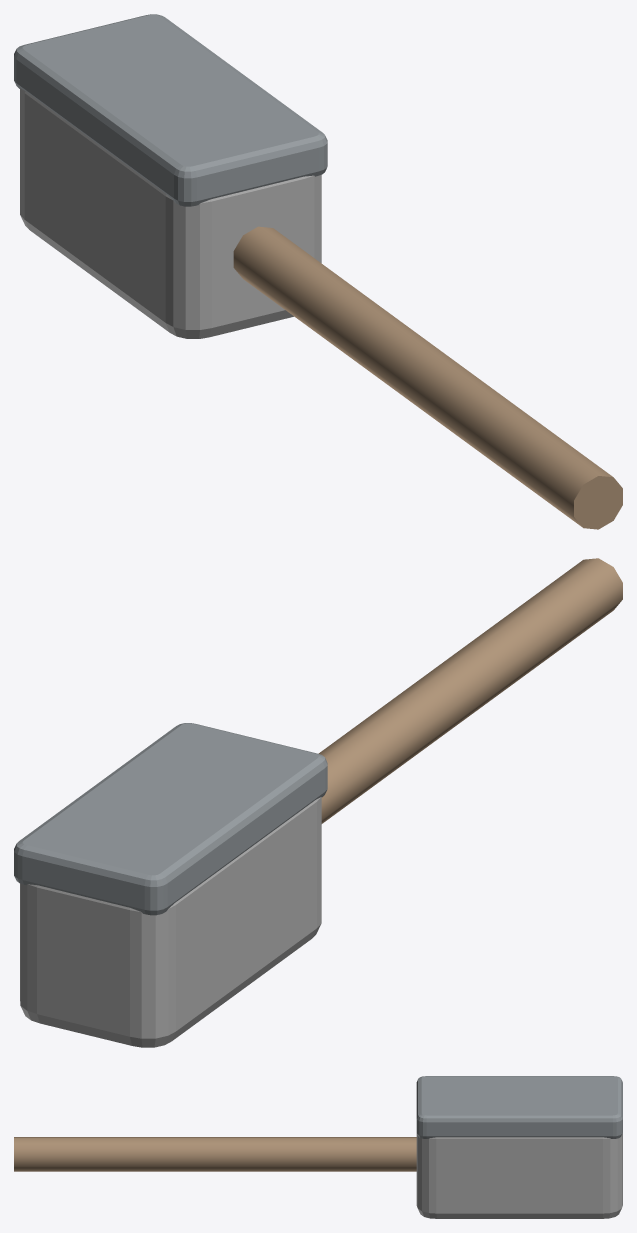
File: item_balyoz.glb
3 views of the same model, one above another, from view 1: azimuth 30°, elevation 25°; view 2: azimuth 150°, elevation 25°; view 3: azimuth 270°, elevation 25° (orthographic). The views are drawn at different scales.
Parts seen in each view (by area): view 1: balyoz; view 2: balyoz; view 3: balyoz.
Boxes of the visible parts, x1,y1,x2,y2 form: balyoz: [14, 14, 622, 529]; balyoz: [14, 558, 622, 1047]; balyoz: [14, 1076, 622, 1218].
Bounding box in the file's own units: 0.1 × 0.1125 × 0.59.
